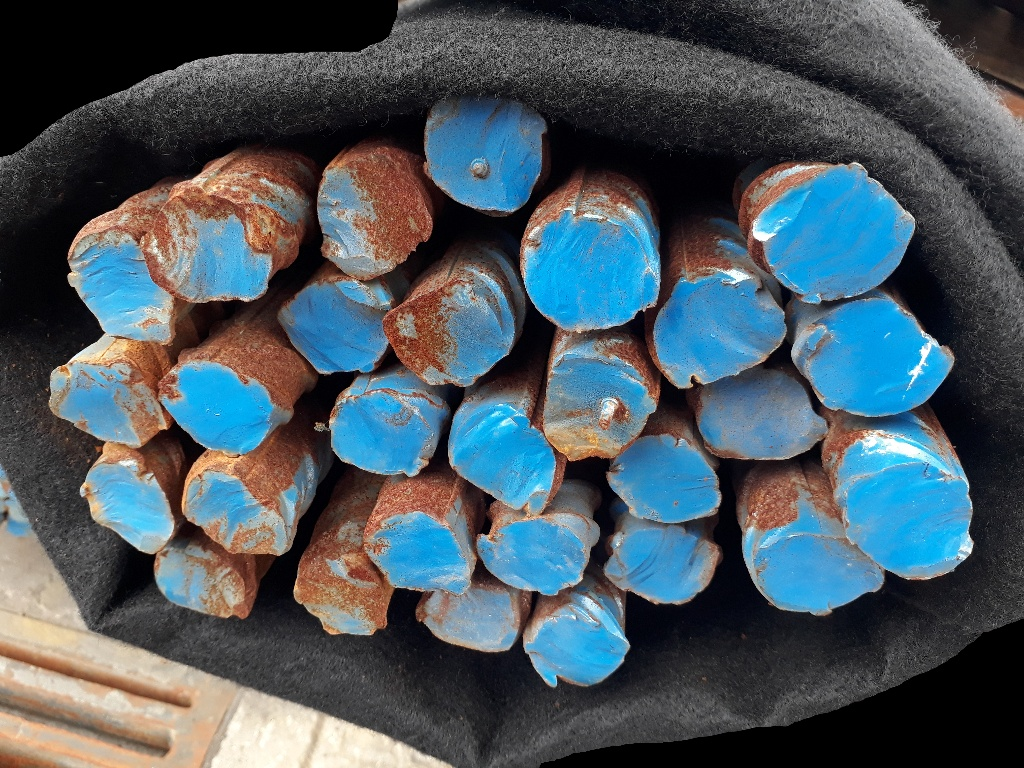dipstick: (753, 170, 916, 302), (838, 437, 974, 580), (803, 299, 955, 417), (524, 209, 653, 336), (652, 275, 786, 390), (422, 90, 544, 215), (315, 148, 431, 278), (379, 286, 509, 390), (156, 198, 272, 304), (69, 235, 177, 347), (695, 373, 830, 462), (545, 355, 654, 462), (447, 405, 557, 511), (157, 359, 275, 457), (276, 277, 391, 375), (609, 433, 721, 527), (751, 535, 882, 613), (44, 360, 149, 453), (364, 508, 473, 597), (604, 523, 719, 606), (182, 471, 291, 558), (523, 605, 630, 691), (481, 514, 587, 598), (80, 464, 173, 554), (296, 549, 385, 640), (331, 399, 430, 478), (147, 544, 249, 619), (420, 583, 519, 653)
